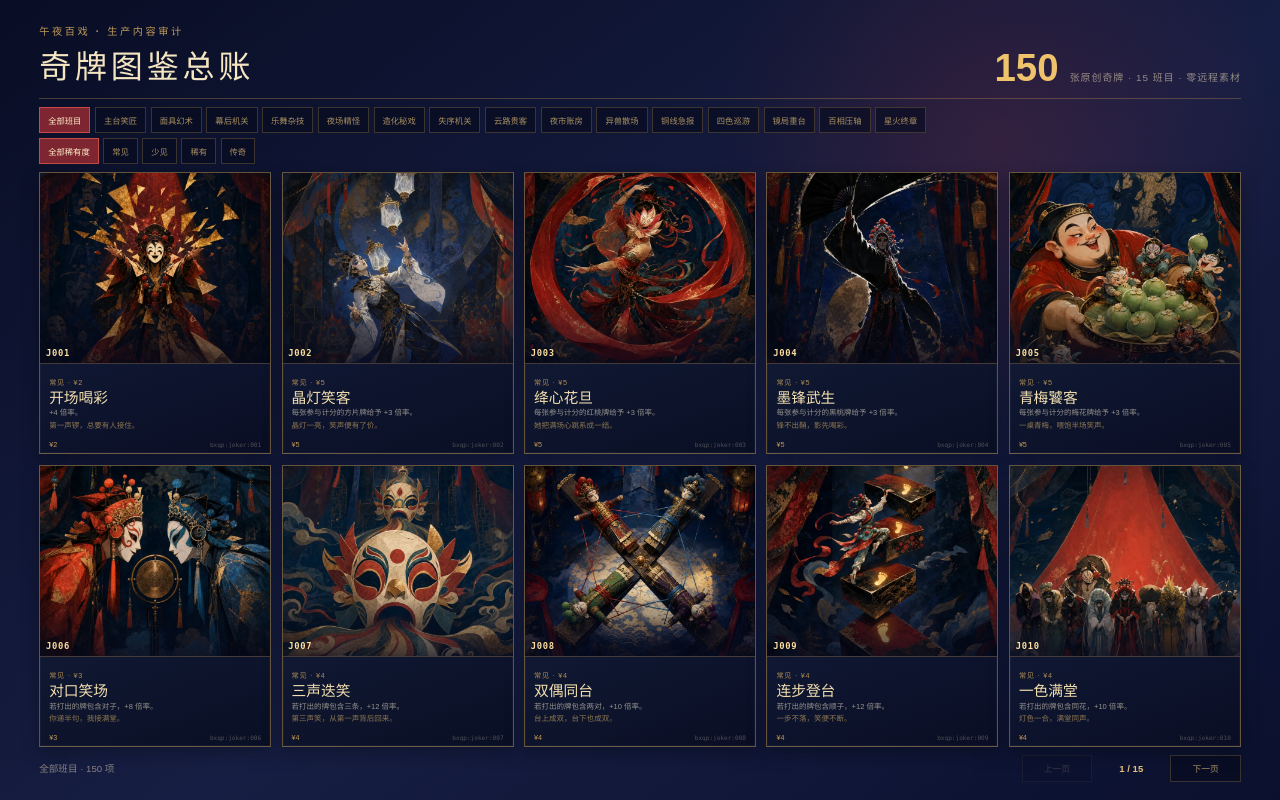
Test case: 奇牌图鉴总账 › 可分别按班目与稀有度筛选，不改变非玩法分组语义
Click the button "面具幻术" at (176,120), box [151,107,202,133]
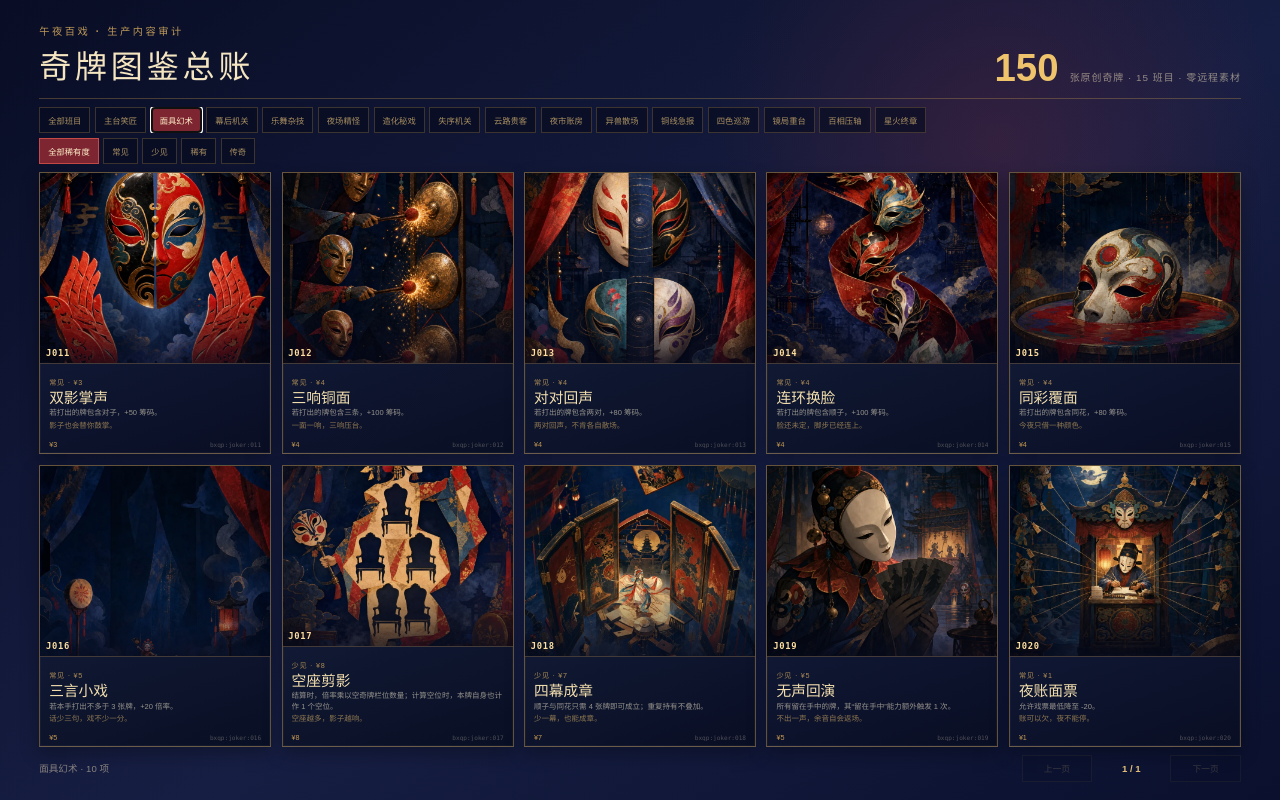
Now the text "面具幻术 · 10 项" is shown, box [39,761,109,775]
Click the button "全部班目" at (65,120), box [39,107,90,133]
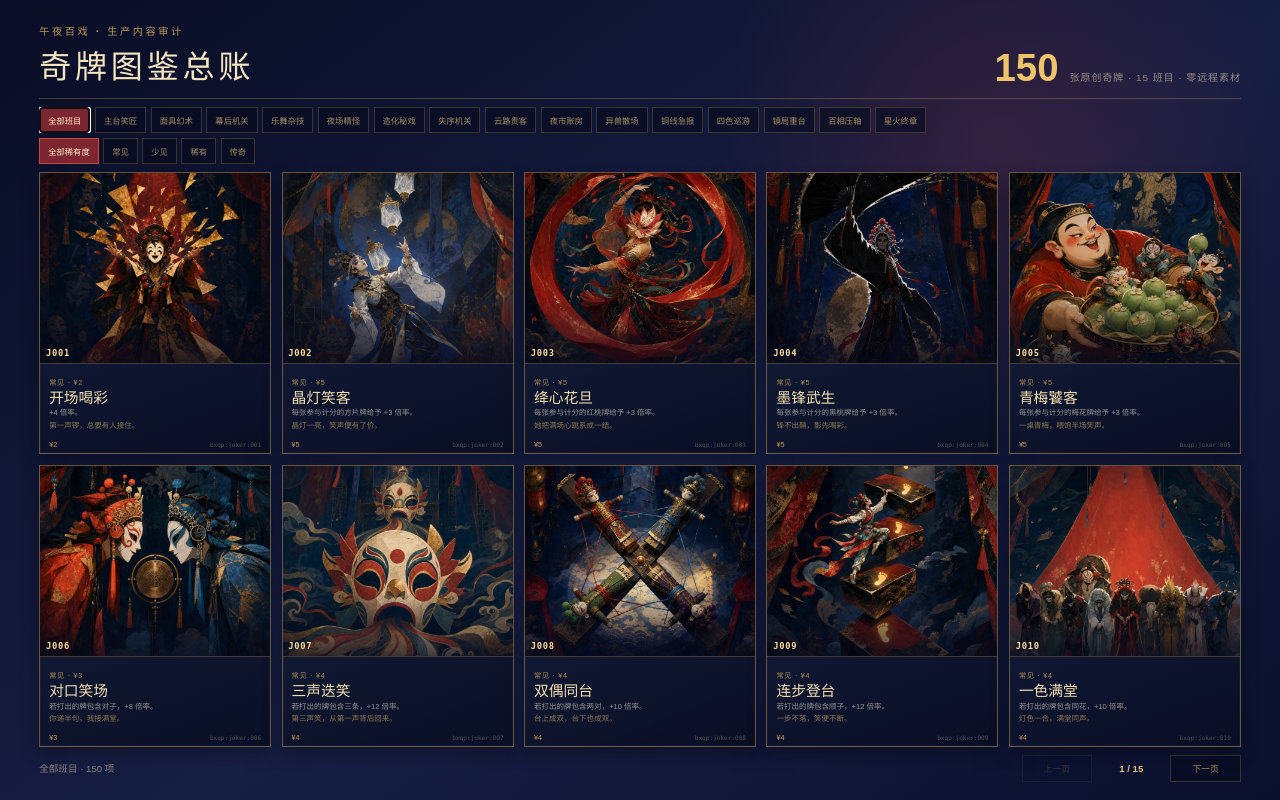
Click the button "少见" at (160,151), box [142,138,177,164]
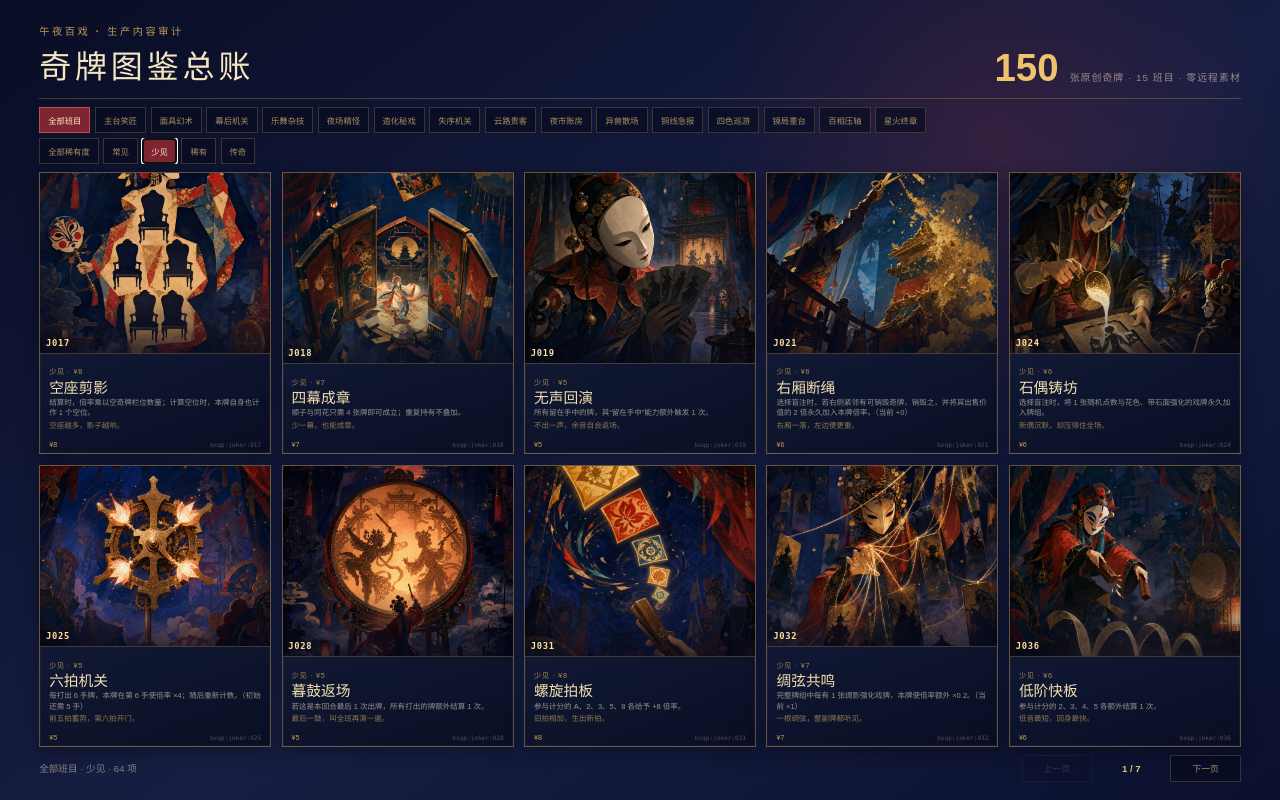
Now the text "全部班目 · 少见 · 64 项" is shown, box [39,761,137,775]
